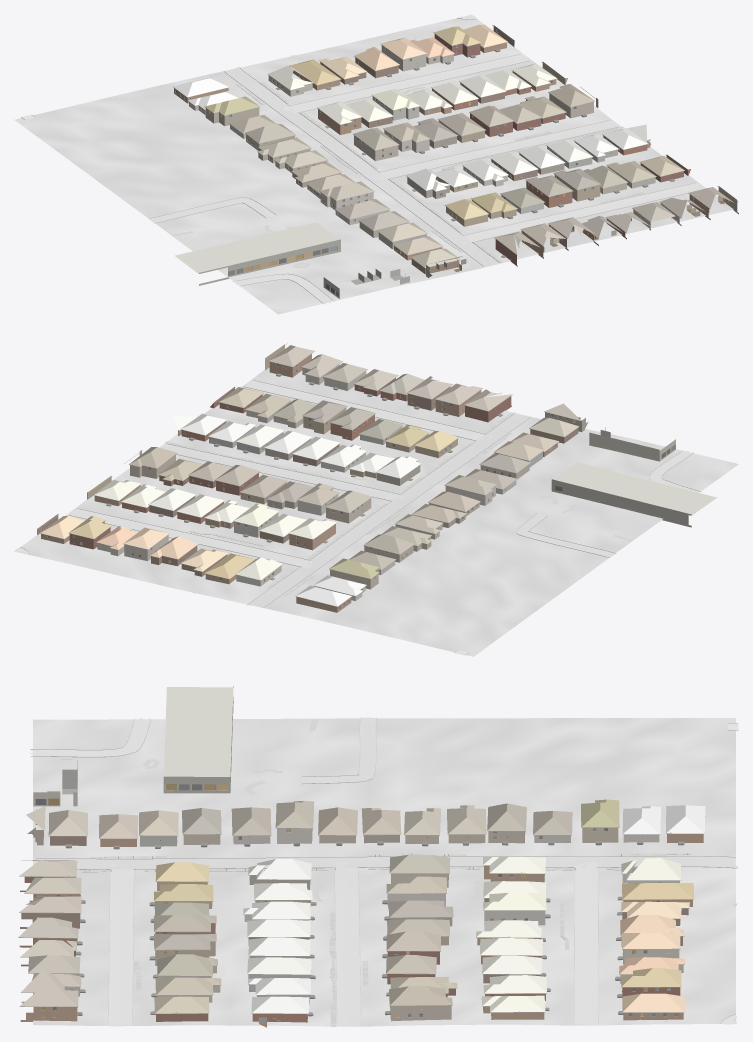
3 renders of one model, top to bottom at view 1: azimuth 30°, elevation 25°; view 2: azimuth 150°, elevation 25°; view 3: azimuth 270°, elevation 25°, orthographic. The views are drawn at different scales.
Parts seen in each view (by area): view 1: ground, roof, concrete, wall, wall_stucco, detail, roof_flat, curb, walk, wall_com, wall_stone, room (+2 smaller); view 2: ground, roof, wall, concrete, wall_stucco, detail, roof_flat, wall_com, curb, walk, wall_stone, glass; view 3: ground, roof, concrete, wall, roof_flat, detail, wall_stucco, walk, curb, wall_com, wall_stone, room (+1 smaller).
Boxes of the visible parts, x1,y1,x2,y2 form: ground: (14,15,733,314); roof: (173,24,733,267); concrete: (22,14,704,304); wall: (174,25,738,277); wall_stucco: (189,45,655,249); detail: (173,25,737,297); roof_flat: (175,222,338,273); curb: (21,18,696,303); walk: (172,55,643,267); wall_com: (199,239,340,298); wall_stone: (230,96,681,225); room: (248,111,725,284); ground: (17,367,738,656); roof: (40,345,581,606); wall: (37,344,588,612); concrete: (14,380,698,655); wall_stucco: (97,371,542,600); detail: (37,343,675,609); roof_flat: (553,462,717,515); wall_com: (551,432,691,527); curb: (20,380,701,655); walk: (165,399,631,596); wall_stone: (234,364,516,574); glass: (40,363,675,609); ground: (33,718,735,1026); roof: (19,799,705,1013); concrete: (30,717,738,1025); wall: (19,828,703,1022); roof_flat: (164,687,233,776); detail: (18,720,705,1022); wall_stucco: (31,828,683,1003); walk: (76,719,737,1026); curb: (30,717,738,1024); wall_com: (33,686,233,806); wall_stone: (21,835,570,1003); room: (27,769,678,1027).
Size of the model in its own units: 270 by 13.6 by 258.
